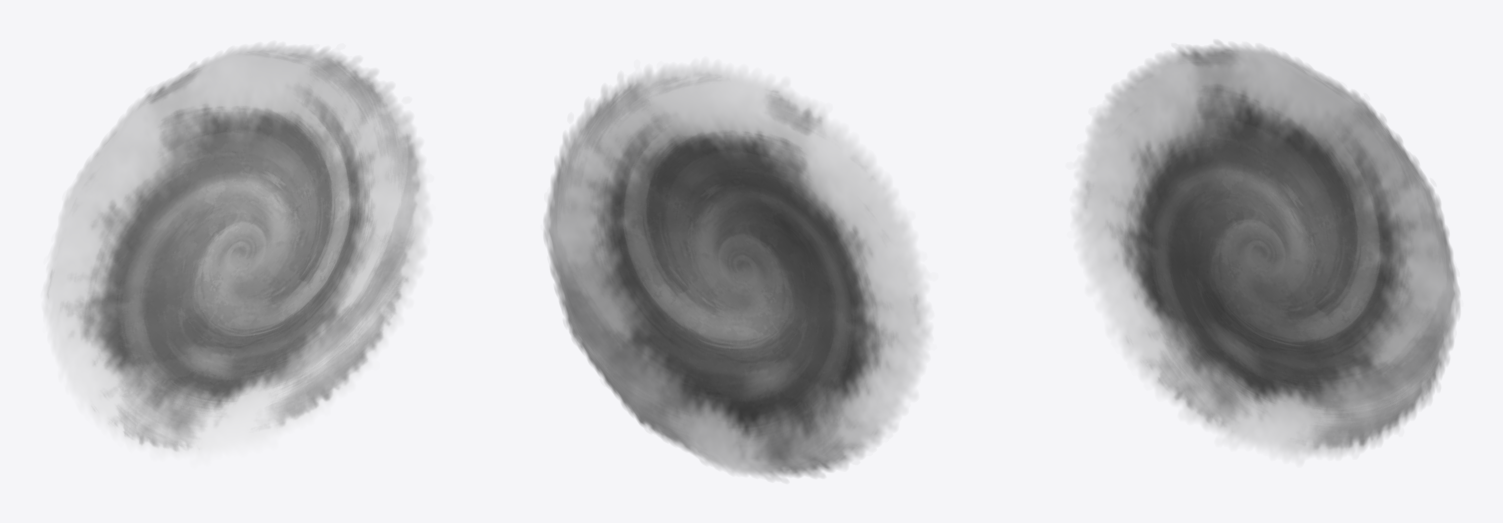
The model's file is portal-effect01.glb.
3 renders of one model, left to right at view 1: azimuth 30°, elevation 25°; view 2: azimuth 150°, elevation 25°; view 3: azimuth 330°, elevation 25°, orthographic.
Parts seen in each view (by area): view 1: PortalEffect01; view 2: PortalEffect01; view 3: PortalEffect01.
Part boxes in pixels (x1,y1,x2,y2): PortalEffect01: (43, 43, 430, 462); PortalEffect01: (544, 61, 930, 480); PortalEffect01: (1073, 41, 1459, 462).
Bounding box in the file's own units: 8.96 × 8.96 × 0.7109.
Materials: 1 (1 with a texture image).
